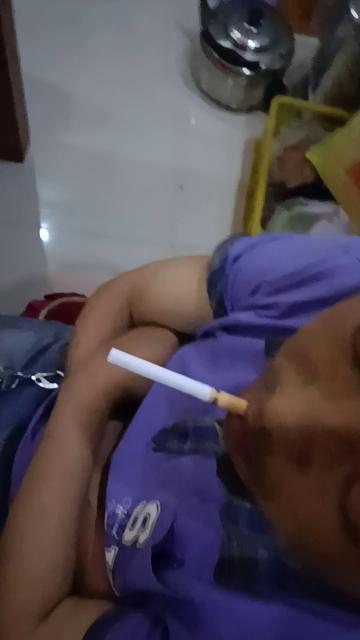Smoking: (107, 345, 251, 417)
